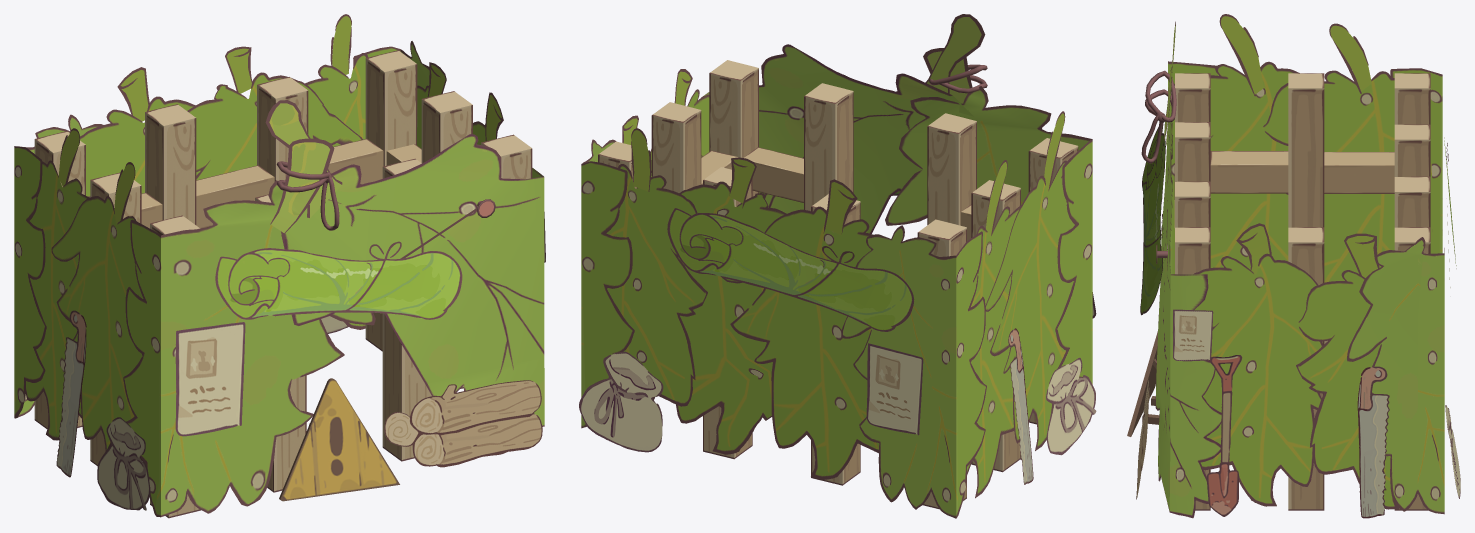
The model's file is Mesh_Home_Construction_23_SM.fbx.
3 renders of one model, left to right at view 1: azimuth 30°, elevation 25°; view 2: azimuth 150°, elevation 25°; view 3: azimuth 270°, elevation 25°, orthographic. The views are drawn at different scales.
Visible parts, largest first — view 1: Mesh_Home_Construction_23, Mesh_Home_Construction_23_P; view 2: Mesh_Home_Construction_23_P, Mesh_Home_Construction_23; view 3: Mesh_Home_Construction_23_P, Mesh_Home_Construction_23.
Part boxes in pixels (x1,y1,x2,y2): Mesh_Home_Construction_23: [14, 41, 544, 518]; Mesh_Home_Construction_23_P: [25, 14, 545, 510]; Mesh_Home_Construction_23_P: [579, 14, 1096, 498]; Mesh_Home_Construction_23: [581, 44, 1092, 518]; Mesh_Home_Construction_23_P: [1136, 14, 1460, 518]; Mesh_Home_Construction_23: [1127, 61, 1444, 518].
Size of the model in its own units: 306 by 286 by 226.
Materials: 1 (1 with a texture image).
